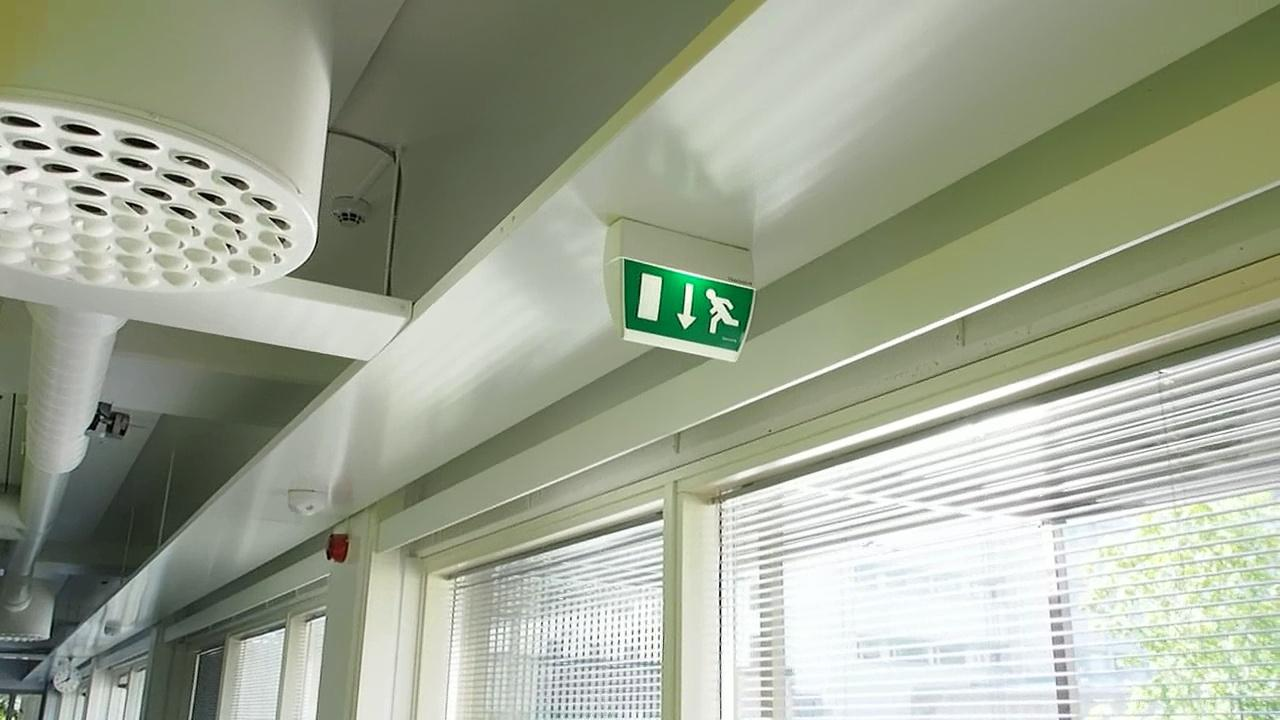exit: (619, 268, 756, 346)
